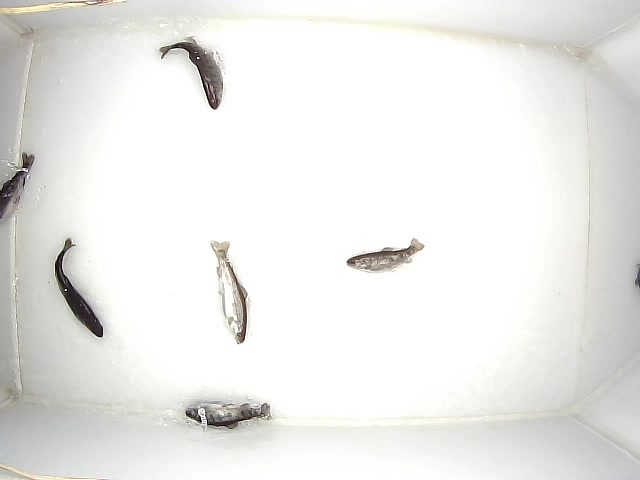fish: (55, 238, 103, 338), (159, 42, 223, 110), (210, 240, 248, 345), (347, 237, 425, 273), (1, 152, 35, 223), (185, 402, 271, 429)
